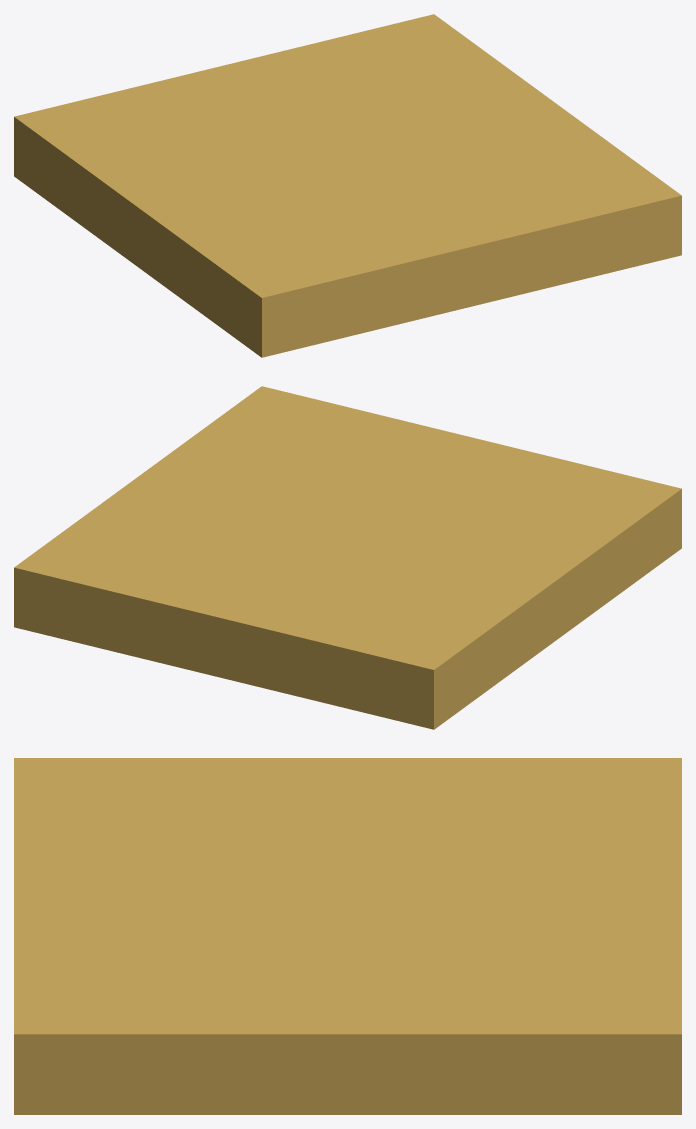
File: border tile.FBX
3 views of the same model, one above another, from view 1: azimuth 30°, elevation 25°; view 2: azimuth 150°, elevation 25°; view 3: azimuth 270°, elevation 25° (orthographic). The views are drawn at different scales.
Visible parts, largest first — view 1: Box1444; view 2: Box1444; view 3: Box1444.
Part boxes in pixels (x1=…): Box1444: x1=14, y1=14, x2=681, y2=357; Box1444: x1=14, y1=386, x2=681, y2=729; Box1444: x1=14, y1=758, x2=681, y2=1114.
Bounding box in the file's own units: 4.45 × 0.6047 × 4.55.
